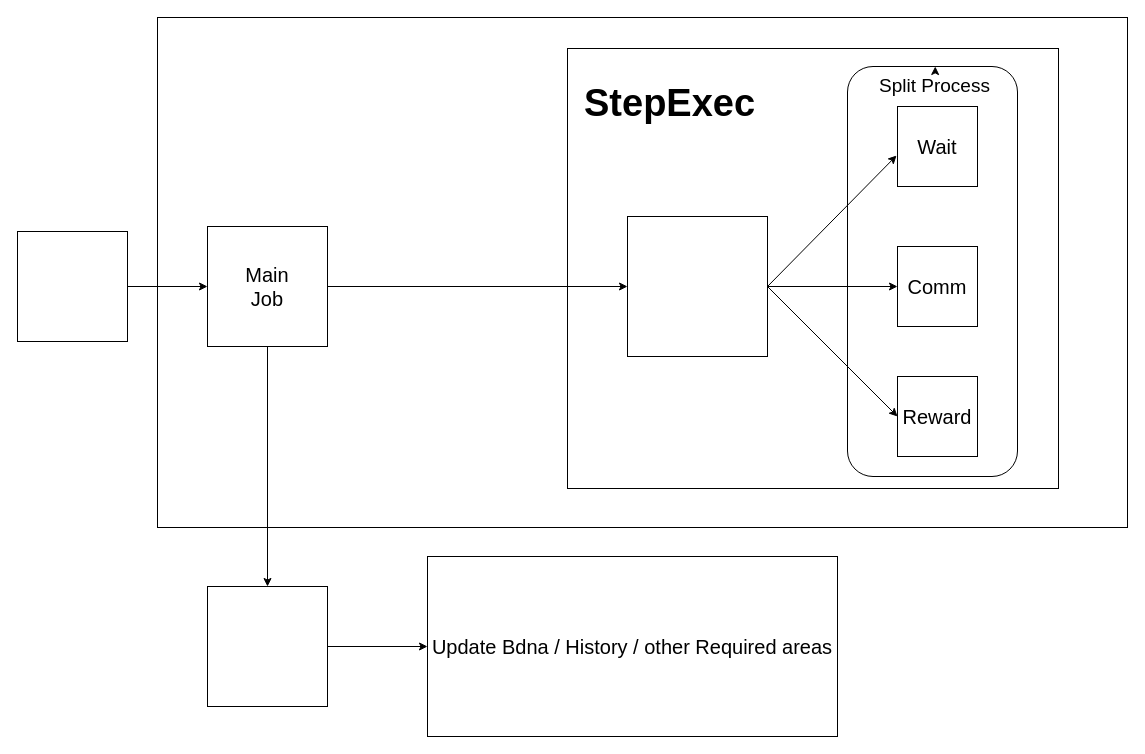
Some shapes in this 1145 by 754 pixel diagram are drawn without their labels. Here are the shapes that lost their labels. From the top down, the centre of each, then its label:
At (x=72, y=286): "BulkAction Job".
At (x=697, y=286): "getData (groupByStepType)".
At (x=267, y=646): "Update Job".
